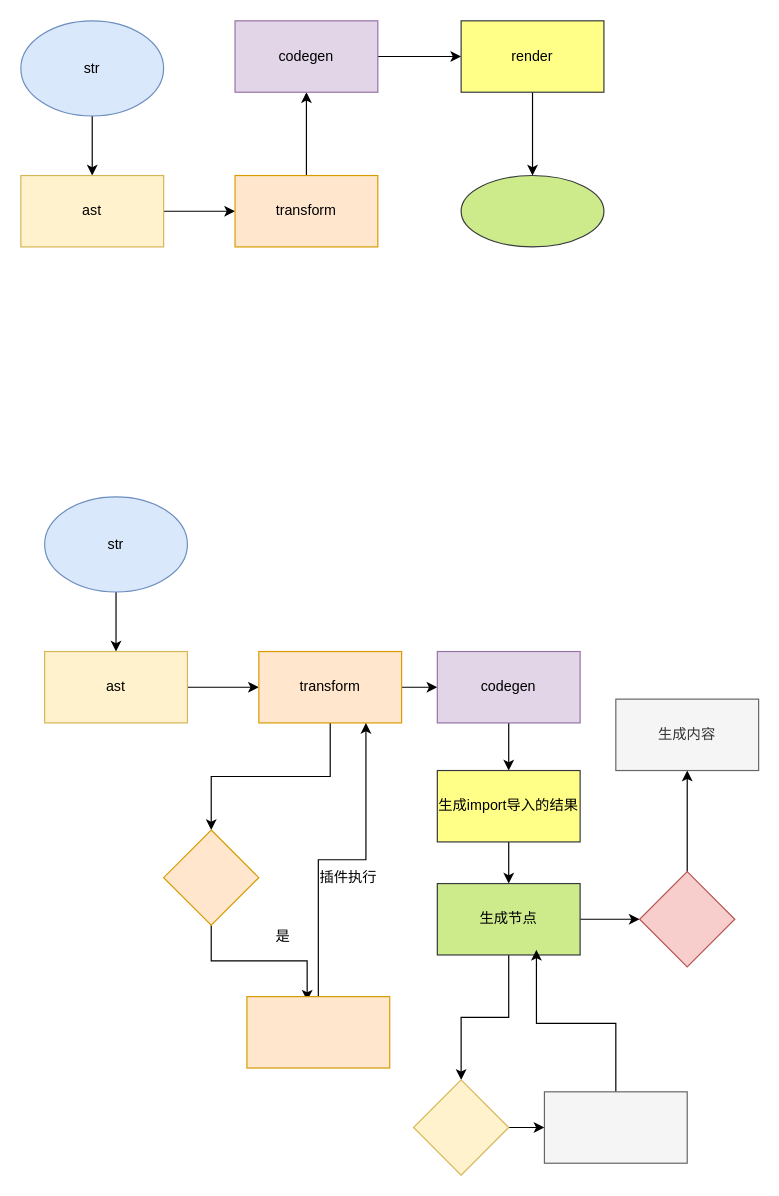
Some shapes in this 779 by 1196 pixel diagram are drawn without their labels. Each missing label, with the centre of its shape:
"如果是插值" belongs at point 210,877.
"是否是插值" belongs at point 460,1127.
"是否简单表达式" belongs at point 686,918.
"生成_displayString" belongs at point 615,1127.
"结束" belongs at point 532,210.
"通过transform的插件，增加`_ctx`" belongs at point 318,1031.
